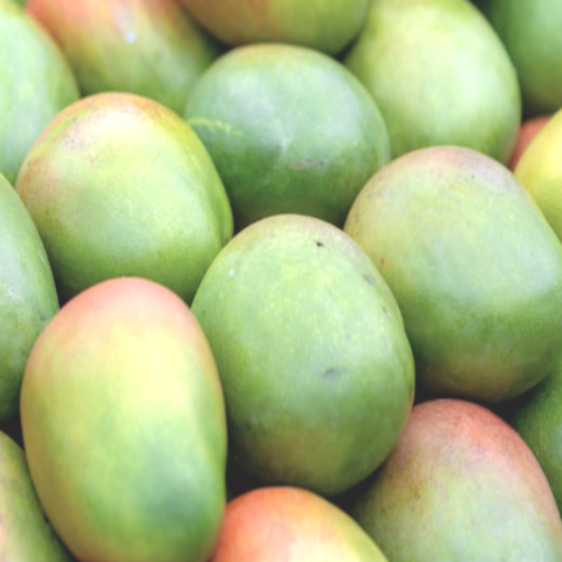mango: (169, 207, 431, 489), (2, 272, 251, 555), (341, 122, 562, 426), (171, 12, 403, 225)
